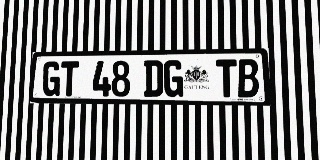4: (92, 61, 111, 96)
8: (111, 60, 130, 97)
B: (237, 59, 259, 97)
D: (144, 60, 163, 97)
G: (164, 60, 183, 97), (42, 61, 61, 96)
T: (216, 59, 237, 97), (60, 61, 79, 96)
